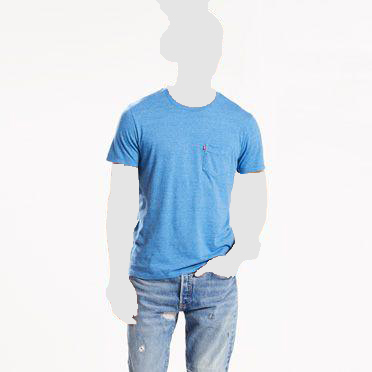teeshirt: (102, 82, 267, 280)
